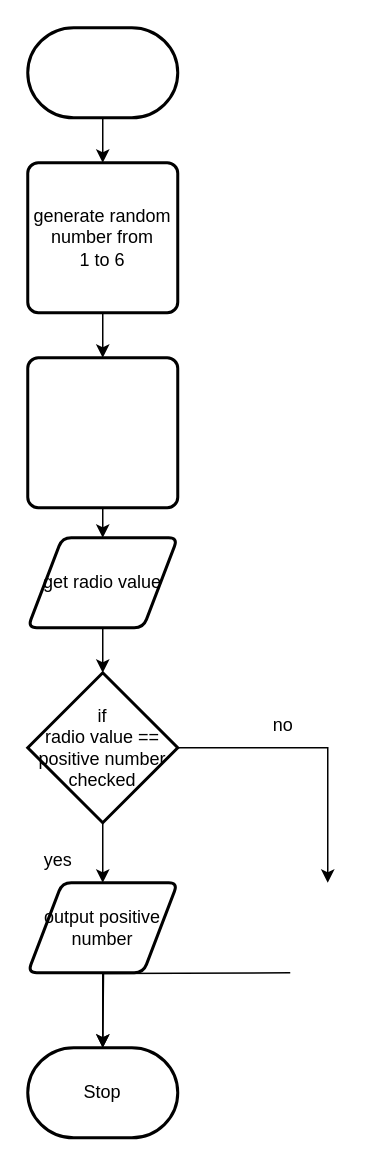
The diagram is 366 pixels wide and 1164 high, and some of its shapes have lost their labels. The shapes that lost their labels are listed below. From the top down, each one's box as (x1, y1, x2, y2) in pixels, then its label:
(26, 26, 178, 118): Start
(26, 356, 178, 508): generate random number from -1 to -6
